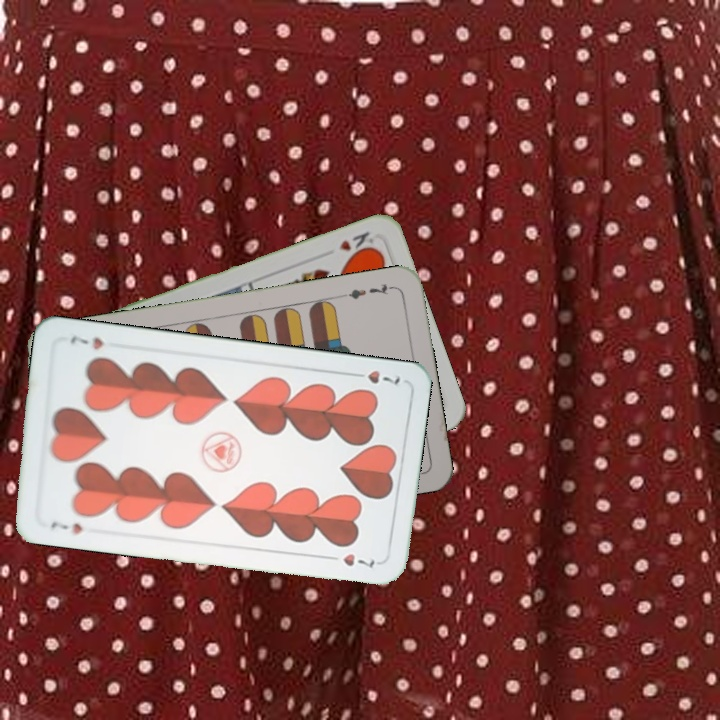E7: (338, 279, 397, 302)
H7: (346, 366, 403, 387), (47, 517, 85, 538)
HK: (335, 227, 380, 260)
